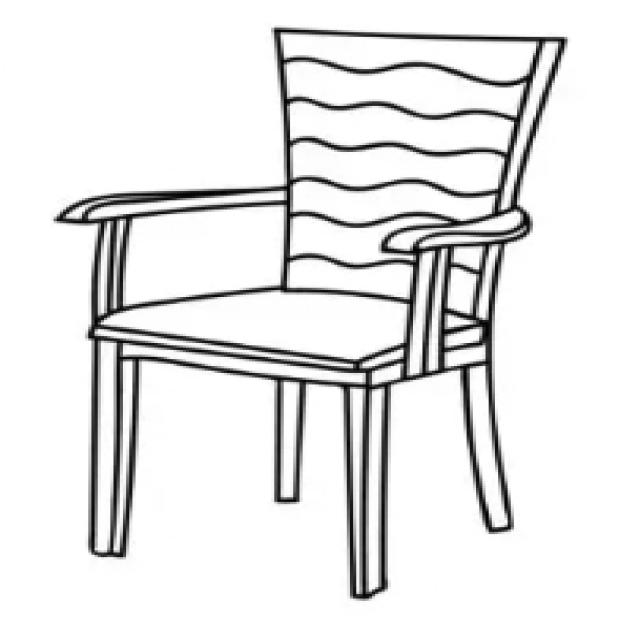Armrest: (51, 185, 293, 324), (375, 203, 535, 382)
Backrest: (270, 26, 574, 327)
Leg_Structure: (83, 339, 529, 605)
Seat: (85, 285, 492, 388)
